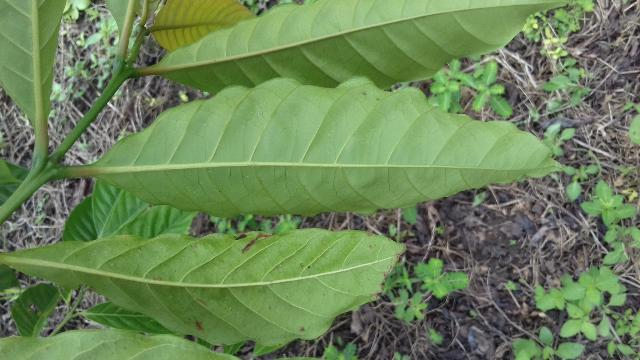healthy: (68, 70, 573, 220)
